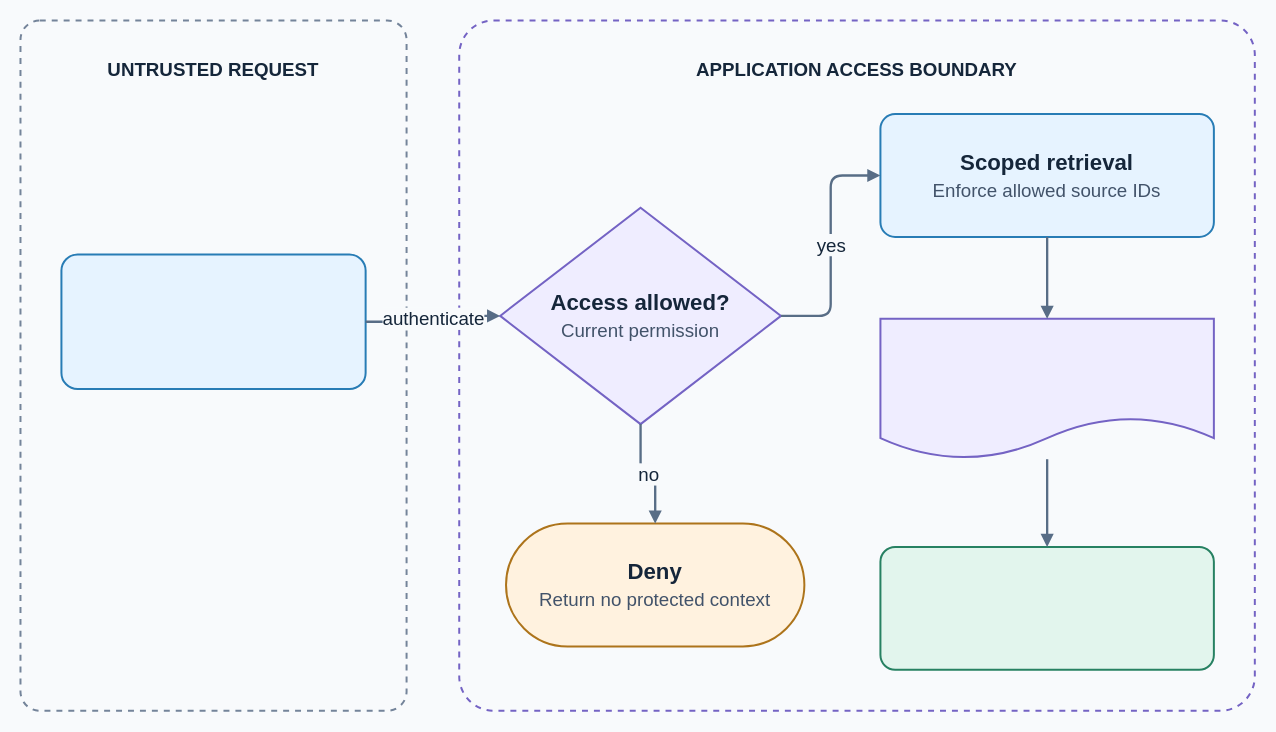
Image size: 1276x732. Some labels were removed from this diagram. Here are the shapes that lost their labels. From the top down, the box of each, then its label:
(60, 253, 366, 389): Request identity Caller + requested collection
(879, 317, 1214, 460): Authorized context Check expansion + cache scope
(879, 545, 1214, 670): Generate Use only the admitted context
